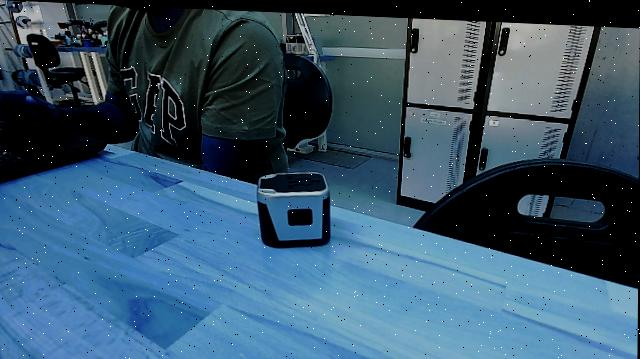adapter: (254, 167, 340, 248)
